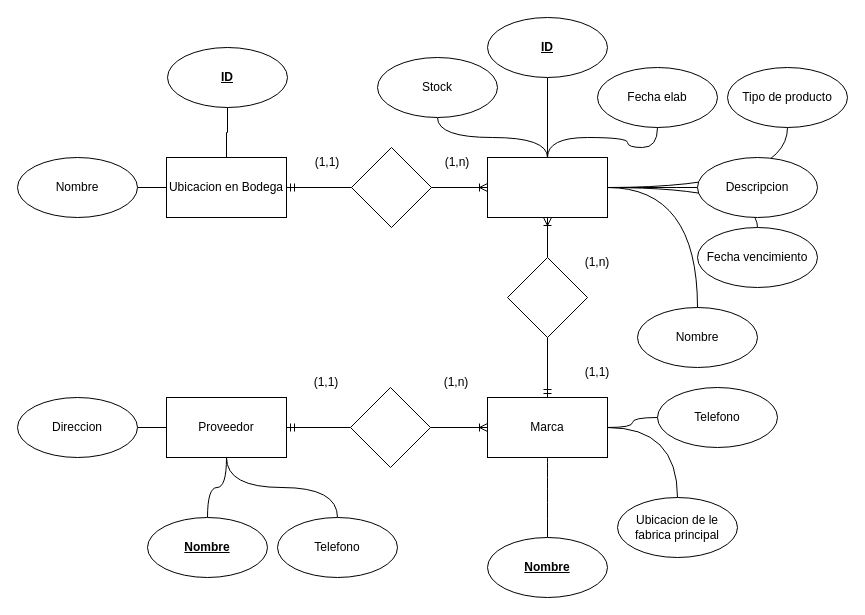
Image size: 865x615. Some labels were removed from this diagram. Each missing label, with the box of its shape:
Almacena: (350, 146, 432, 228)
distribuye: (350, 386, 430, 468)
Pertenece a: (506, 256, 588, 338)
Producto: (486, 156, 608, 218)
